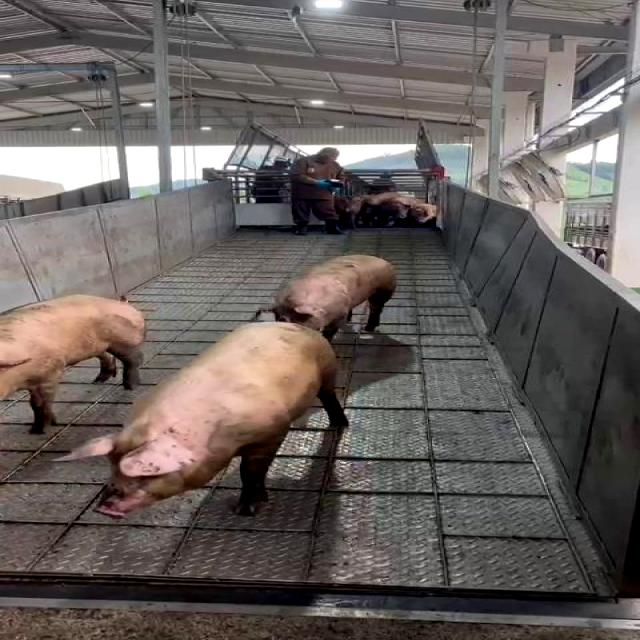pig: (66, 322, 347, 514), (1, 295, 144, 431), (271, 256, 395, 338)
